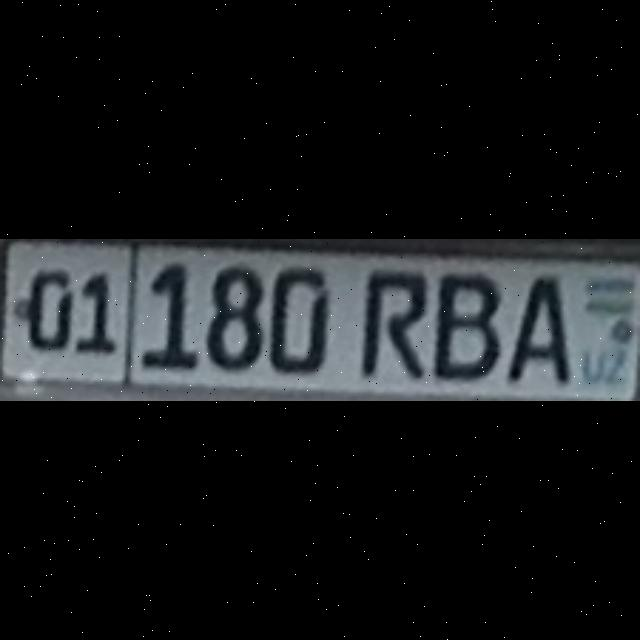0: (264, 262, 324, 370), (26, 265, 68, 347)
1: (136, 259, 196, 367), (74, 270, 114, 350)
8: (204, 262, 256, 364)
A: (506, 274, 566, 378)
B: (432, 270, 498, 376)
R: (358, 267, 424, 378)
